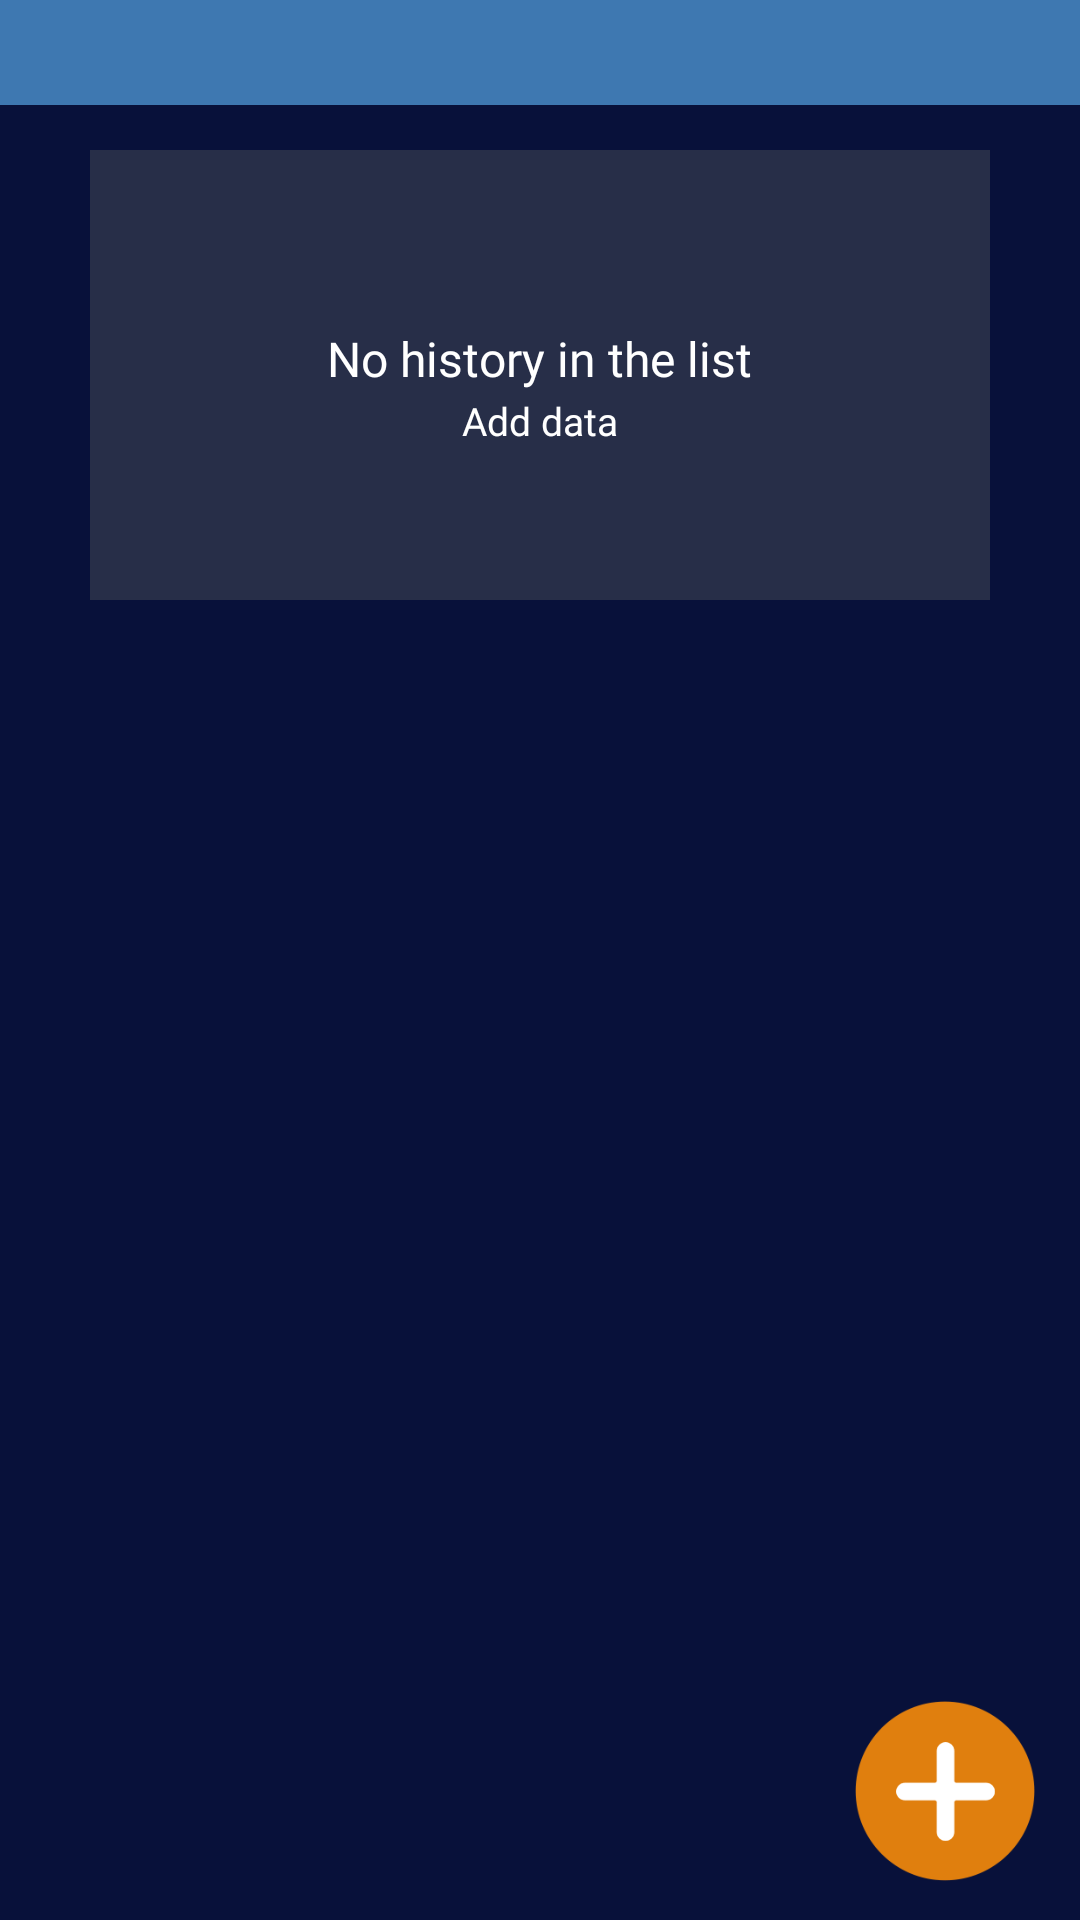

Locate icon controls on the screen. Image size 1080x1920, boxes as (x1, y1, x2, y2).
add circle: (855, 1701, 1035, 1881)
